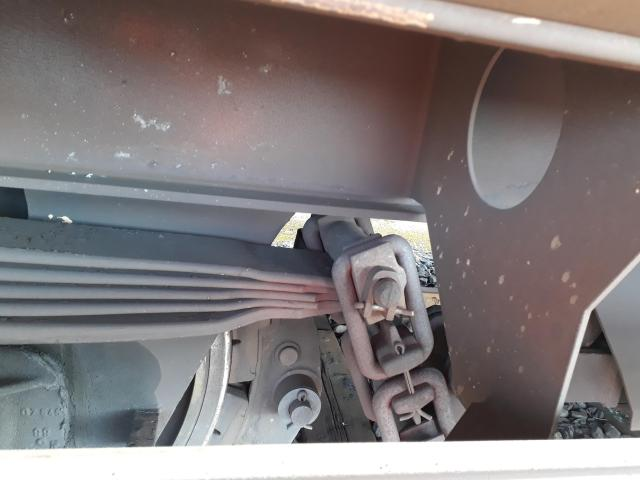blattfederww: (1, 244, 314, 342)
